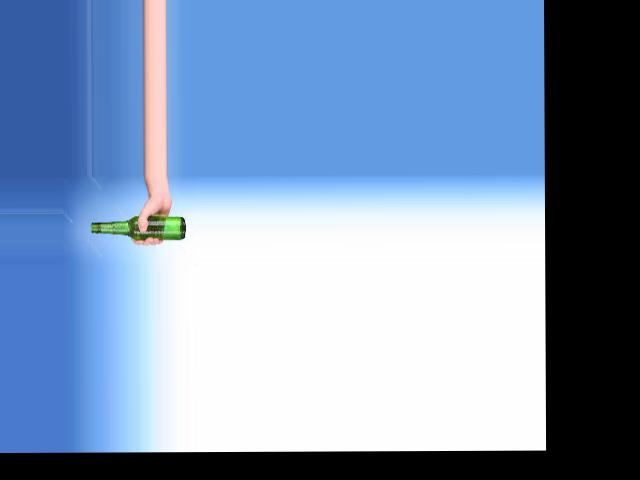beer: (90, 216, 185, 239)
